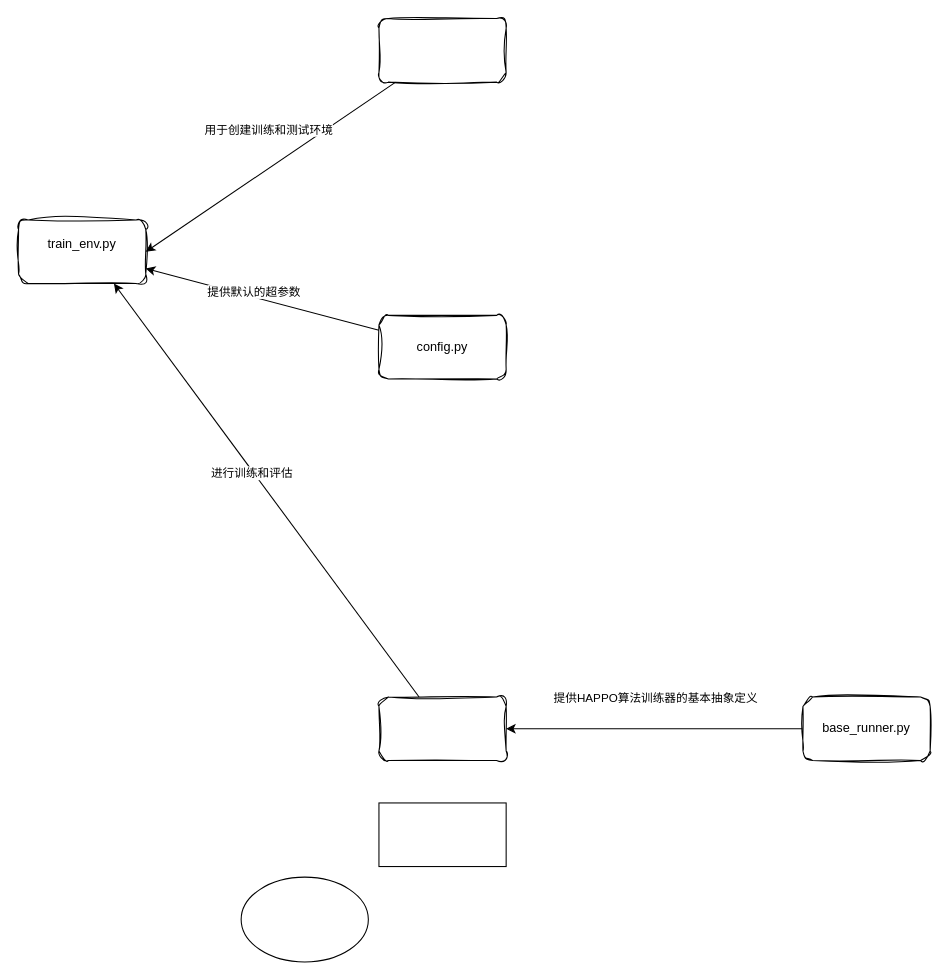
Some shapes in this 949 by 980 pixel diagram are drawn without their labels. The centre of each missing label's shape, as x and y in pixels:
env_wrappers.py: the point at 442,49
runner.py: the point at 442,728
